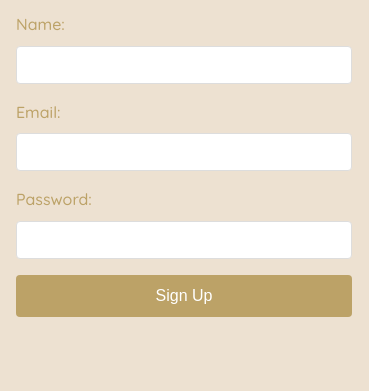
Test: SignupForm › displays error message on registration failure
In the field labelled "Name:": (184, 65) [16, 46, 352, 84], type "Test User"
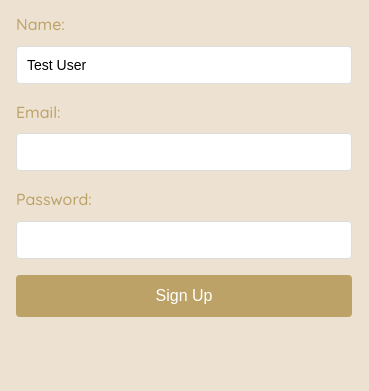
In the field labelled "Email:": (184, 152) [16, 133, 352, 171], type "test@example.com"
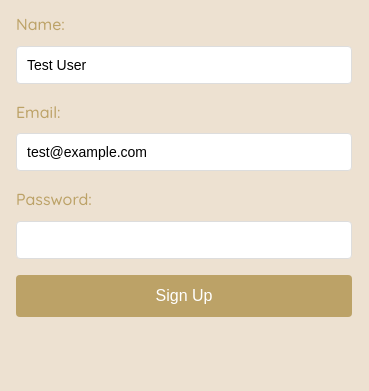
In the password field labelled "Password:": (184, 240) [16, 221, 352, 259], type "password123"
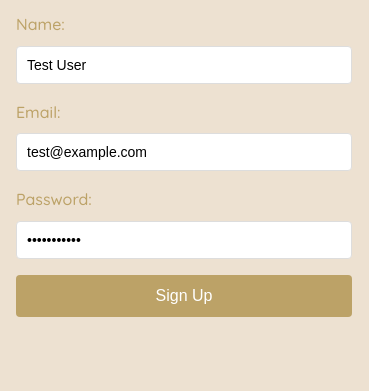
Click the button "Sign Up": click(184, 296) [16, 275, 352, 317]
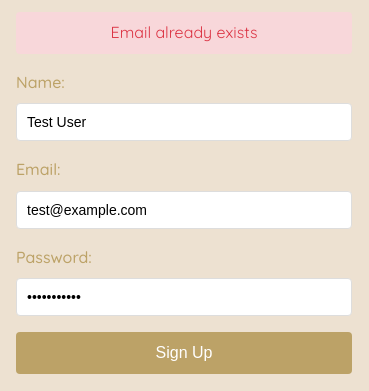
Expected: the text "Email already exists" is shown, [16, 12, 352, 54]
